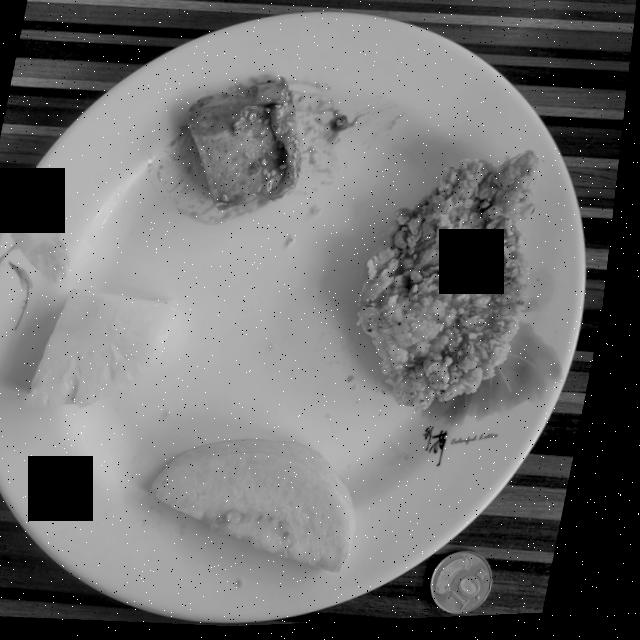coin: (444, 555, 506, 619)
creamy tofu: (189, 81, 306, 212)
fried chicken cutlet: (364, 156, 543, 414)
guava -sliced-: (160, 441, 368, 576)
pineapple: (32, 290, 186, 408)
